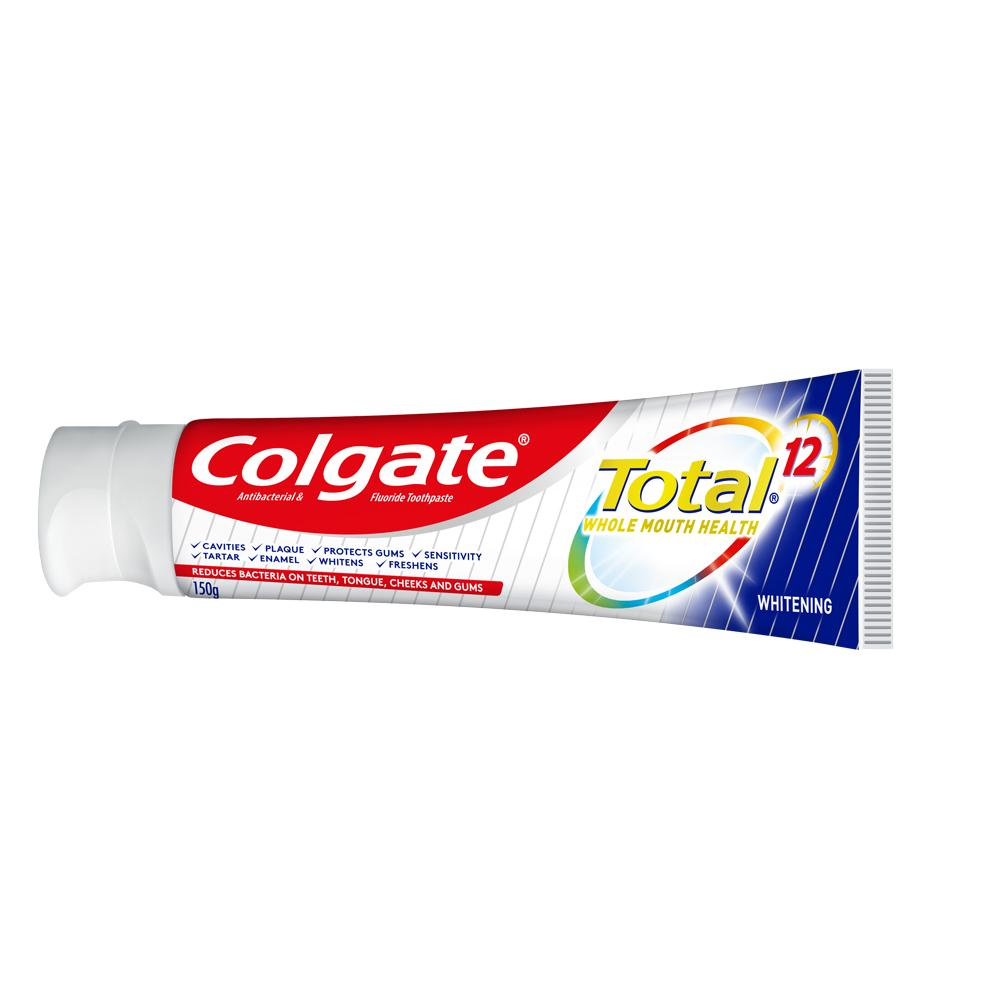toothpaste: (32, 332, 909, 661)
